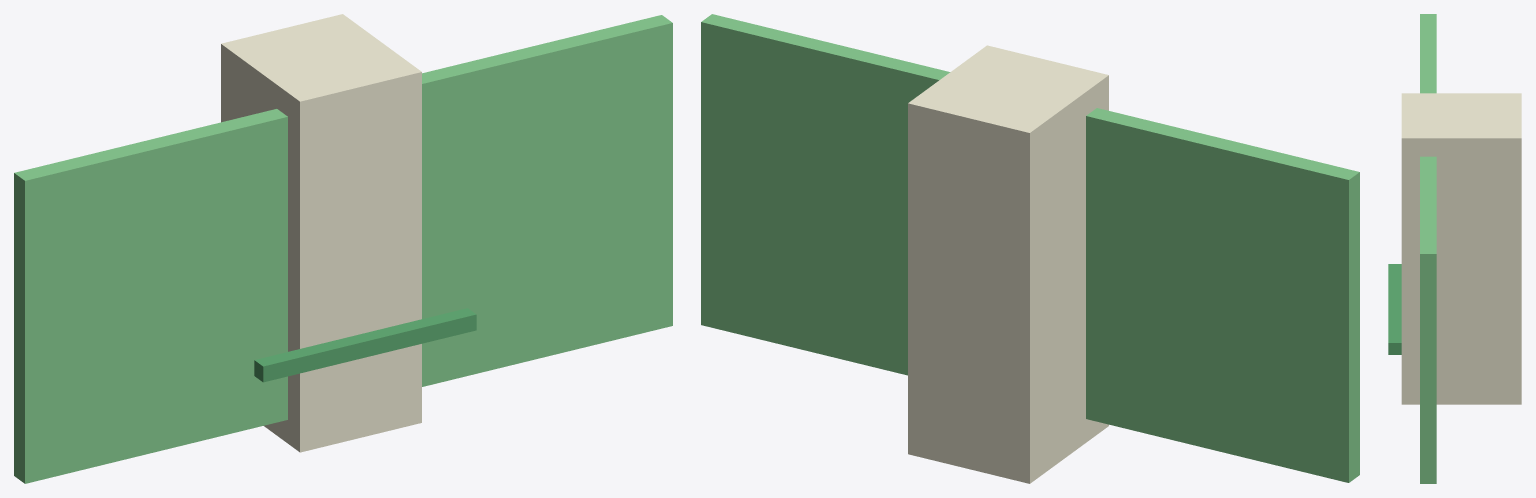
The model's file is cash_pickup_bundle.glb.
The picture shows the model from 3 angles, left to right: view 1: azimuth 30°, elevation 25°; view 2: azimuth 150°, elevation 25°; view 3: azimuth 270°, elevation 25°; orthographic projection. The views are drawn at different scales.
Parts seen in each view (by area): view 1: cash_note_stack, cash_band, cash_icon_top; view 2: cash_note_stack, cash_band; view 3: cash_band, cash_note_stack, cash_icon_top.
Boxes of the visible parts, x1,y1,x2,y2 form: cash_note_stack: [14, 15, 672, 483]; cash_band: [221, 14, 421, 452]; cash_icon_top: [254, 308, 476, 382]; cash_note_stack: [701, 14, 1359, 482]; cash_band: [908, 45, 1108, 483]; cash_band: [1401, 93, 1521, 404]; cash_note_stack: [1420, 14, 1436, 483]; cash_icon_top: [1388, 264, 1401, 354].
Size of the model in its own units: 0.85 by 0.44 by 0.2.
